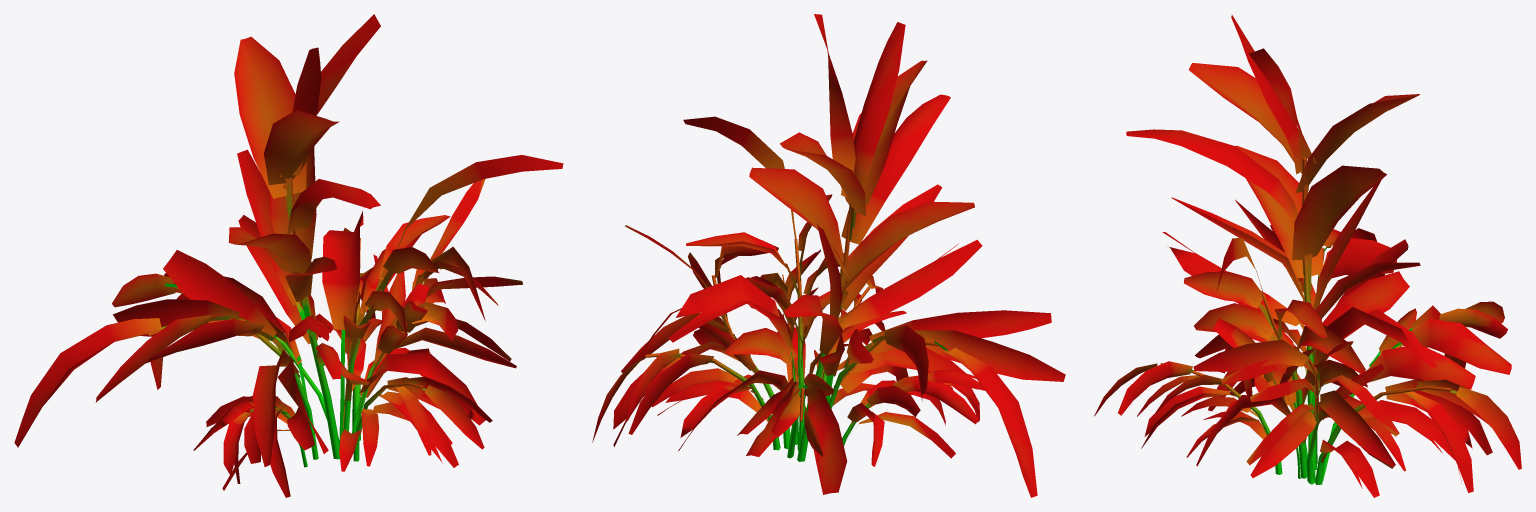
Rendered from Var1_LOD1.fbx.
3 renders of one model, left to right at view 1: azimuth 30°, elevation 25°; view 2: azimuth 150°, elevation 25°; view 3: azimuth 270°, elevation 25°, orthographic. The views are drawn at different scales.
Visible parts, largest first — view 1: _df5d_Var1_LOD1; view 2: _df5d_Var1_LOD1; view 3: _df5d_Var1_LOD1.
Part boxes in pixels (x1,y1,x2,y2): _df5d_Var1_LOD1: (14,14,563,497); _df5d_Var1_LOD1: (592,14,1065,497); _df5d_Var1_LOD1: (1094,15,1521,497).
Size of the model in its own units: 241 by 228 by 201.
